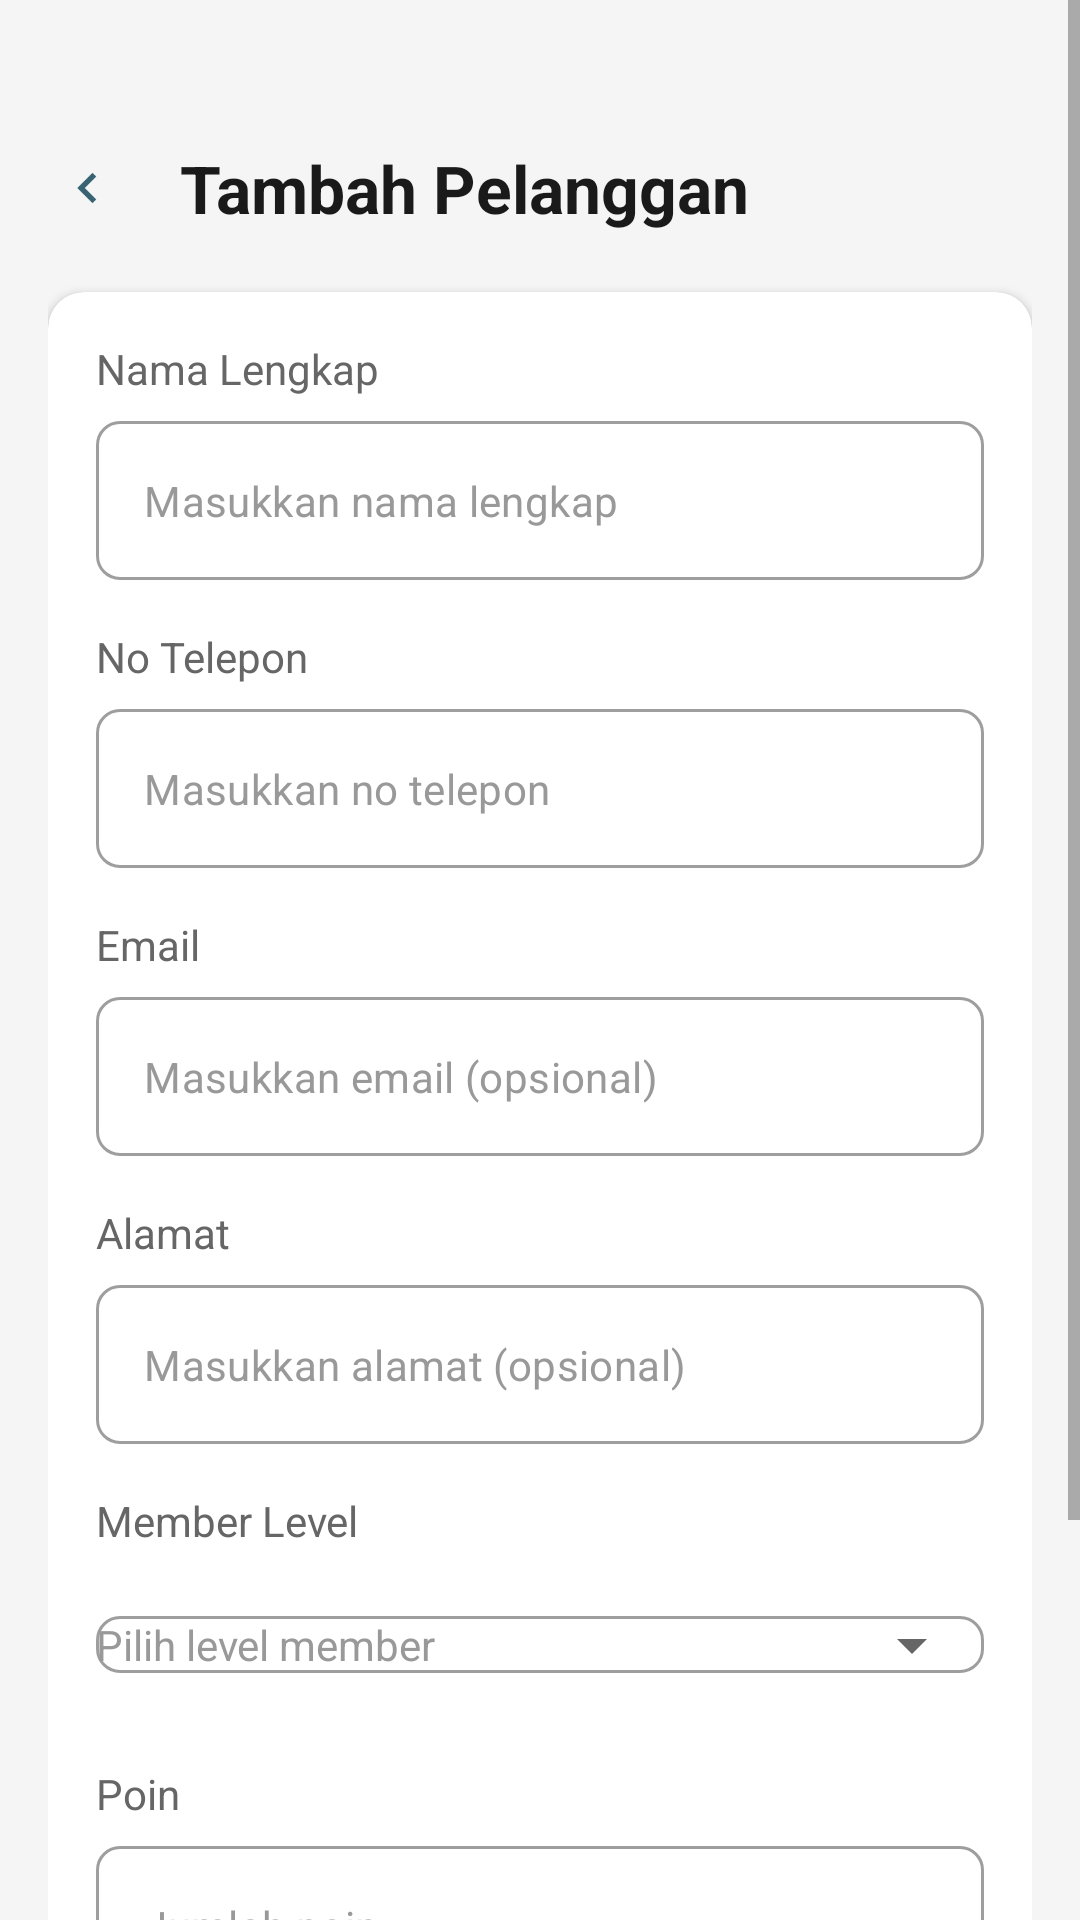

Icon bounding boxes for this 1080px x 1920px phone screenshot, format (left=x1, top=y1, right=x2, bottom=y2):
Kembali: (left=77, top=173, right=96, bottom=203)
